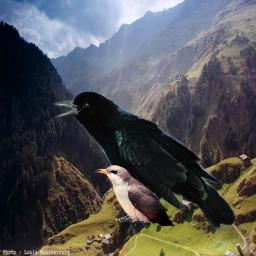Crow: (54, 91, 235, 236)
Cuckoo: (95, 165, 175, 227)
